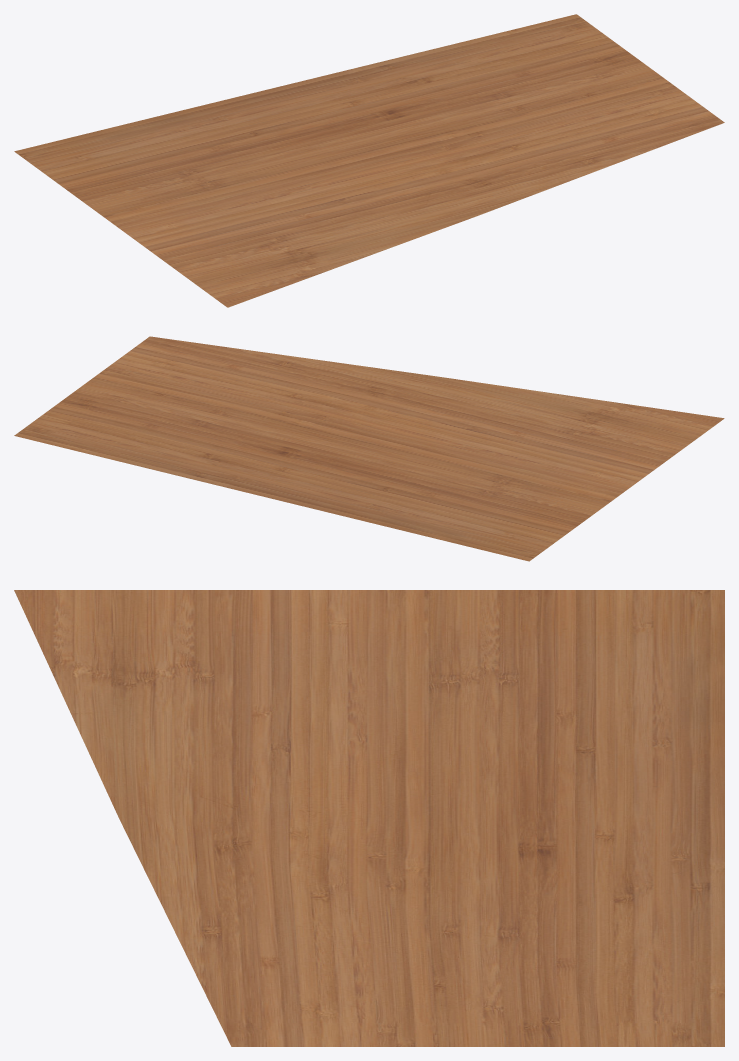
Rendered from GYM_Floor_Wood_4.fbx.
3 views of the same model, one above another, from view 1: azimuth 30°, elevation 25°; view 2: azimuth 150°, elevation 25°; view 3: azimuth 270°, elevation 25° (orthographic). The views are drawn at different scales.
Parts seen in each view (by area): view 1: GYM_Wood_Floor_5; view 2: GYM_Wood_Floor_5; view 3: GYM_Wood_Floor_5.
Boxes of the visible parts, x1,y1,x2,y2 form: GYM_Wood_Floor_5: (14, 14, 724, 307); GYM_Wood_Floor_5: (14, 336, 724, 561); GYM_Wood_Floor_5: (14, 590, 724, 1046).
Bounding box in the file's own units: 4 × 8.88e-16 × 2.63.
1 material, 1 textured.
